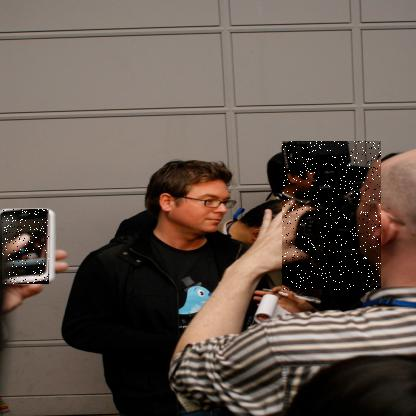Camera: (283, 143, 383, 293), (3, 210, 51, 286)
